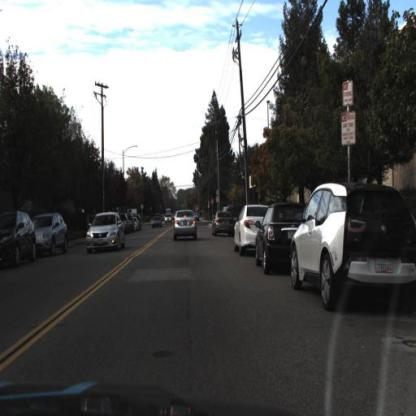car: (290, 178, 416, 308), (253, 198, 303, 272), (0, 210, 36, 266), (231, 202, 267, 256), (84, 208, 125, 255), (32, 208, 68, 257), (172, 207, 196, 241), (211, 209, 235, 238)
